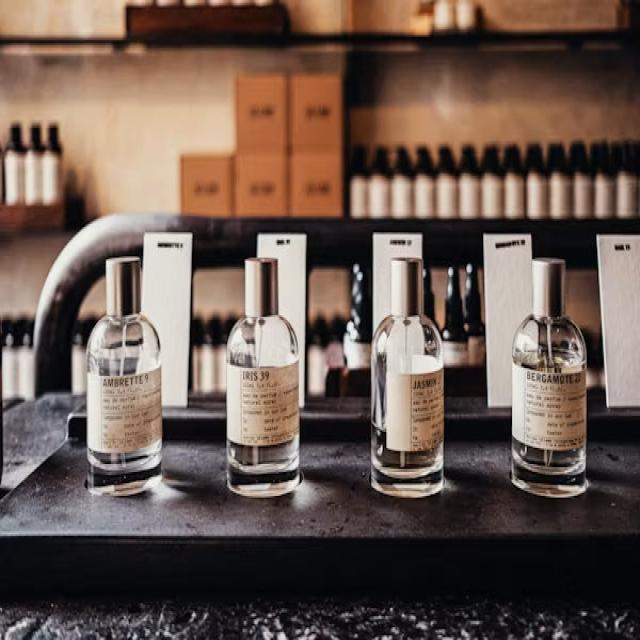Bottle: (87, 258, 162, 495), (512, 260, 586, 497), (227, 258, 299, 495), (372, 258, 443, 497), (340, 264, 372, 396), (344, 264, 372, 369), (442, 268, 468, 367), (464, 264, 485, 366), (590, 141, 615, 219), (570, 141, 594, 219), (548, 143, 572, 219), (525, 144, 548, 219), (4, 124, 25, 204), (503, 144, 525, 219), (616, 143, 638, 217), (436, 146, 458, 219), (326, 316, 346, 396), (200, 317, 221, 393), (216, 317, 237, 393), (42, 125, 62, 204), (307, 317, 327, 396), (458, 144, 479, 219), (482, 144, 503, 219), (391, 148, 413, 219), (414, 148, 436, 219), (16, 319, 35, 399), (72, 319, 92, 395), (368, 148, 390, 217), (25, 125, 43, 204), (349, 146, 367, 219), (3, 319, 19, 399), (326, 316, 346, 369), (191, 317, 203, 391), (423, 268, 435, 323), (434, 0, 455, 31), (456, 0, 477, 31), (632, 141, 639, 215), (0, 148, 4, 204)
